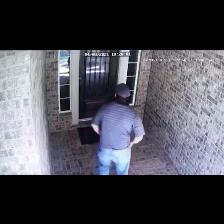person: (92, 84, 145, 174)
